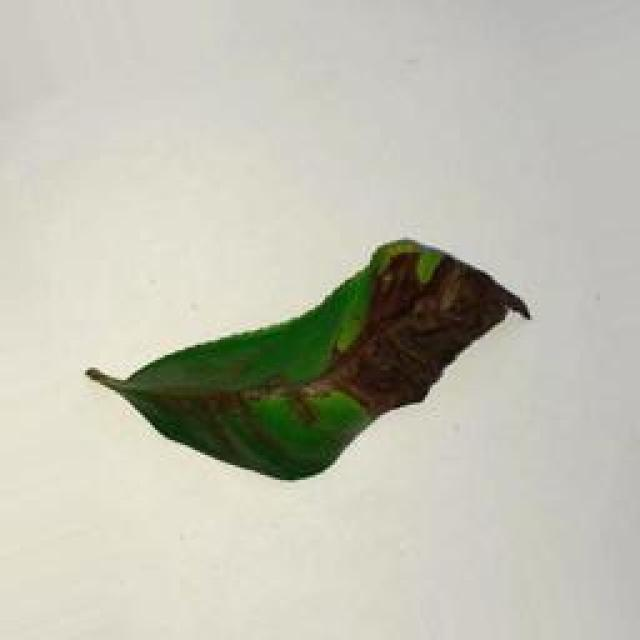Brown Blight: (83, 235, 528, 490)
